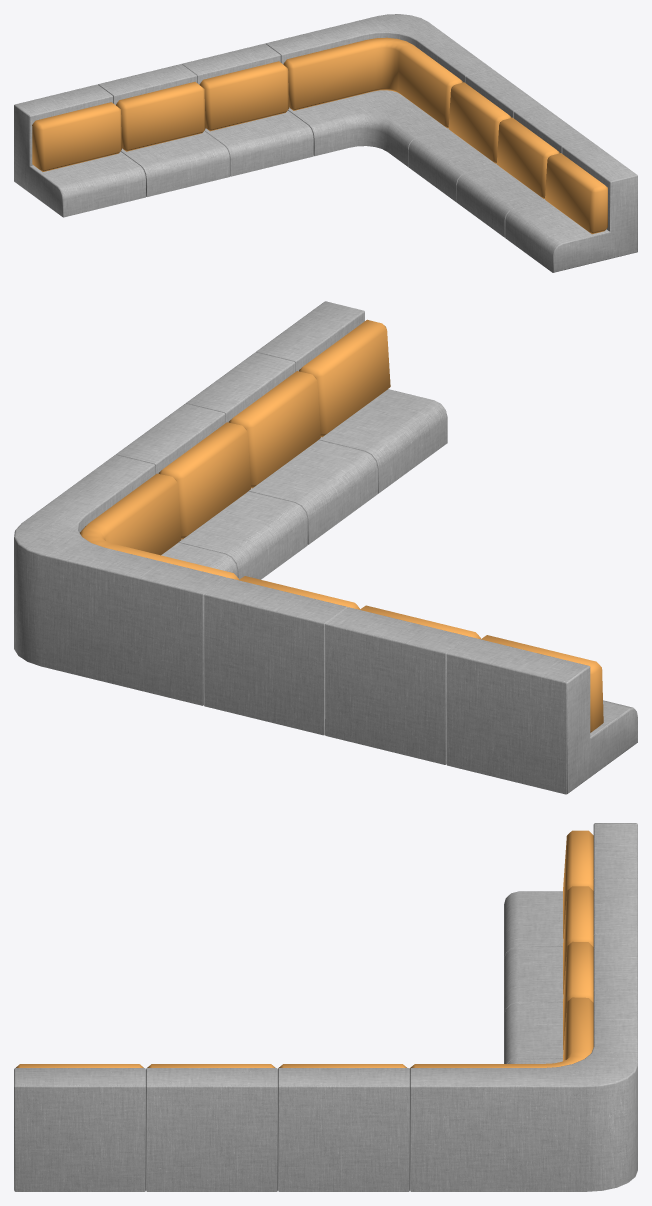
The model's file is sofa_2_1.glb.
3 views of the same model, one above another, from view 1: azimuth 30°, elevation 25°; view 2: azimuth 150°, elevation 25°; view 3: azimuth 270°, elevation 25° (orthographic). The views are drawn at different scales.
Parts seen in each view (by area): view 1: sofa_2_1; view 2: sofa_2_1; view 3: sofa_2_1.
Boxes of the visible parts, x1,y1,x2,y2 form: sofa_2_1: (14, 14, 637, 272); sofa_2_1: (14, 301, 637, 794); sofa_2_1: (14, 823, 637, 1191).
Size of what is drawn, in the model's own units: 8.14 by 1.52 by 8.14.
2 materials, 2 textured.
